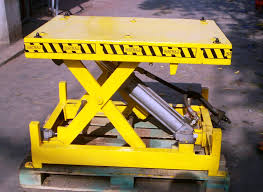Scissor Lift: (17, 11, 234, 192)
